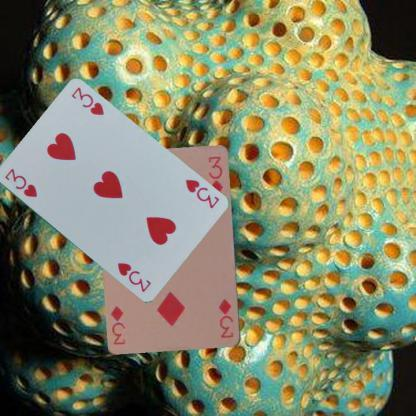3d: (216, 296, 235, 340)
3h: (182, 176, 220, 210), (2, 166, 38, 199)
